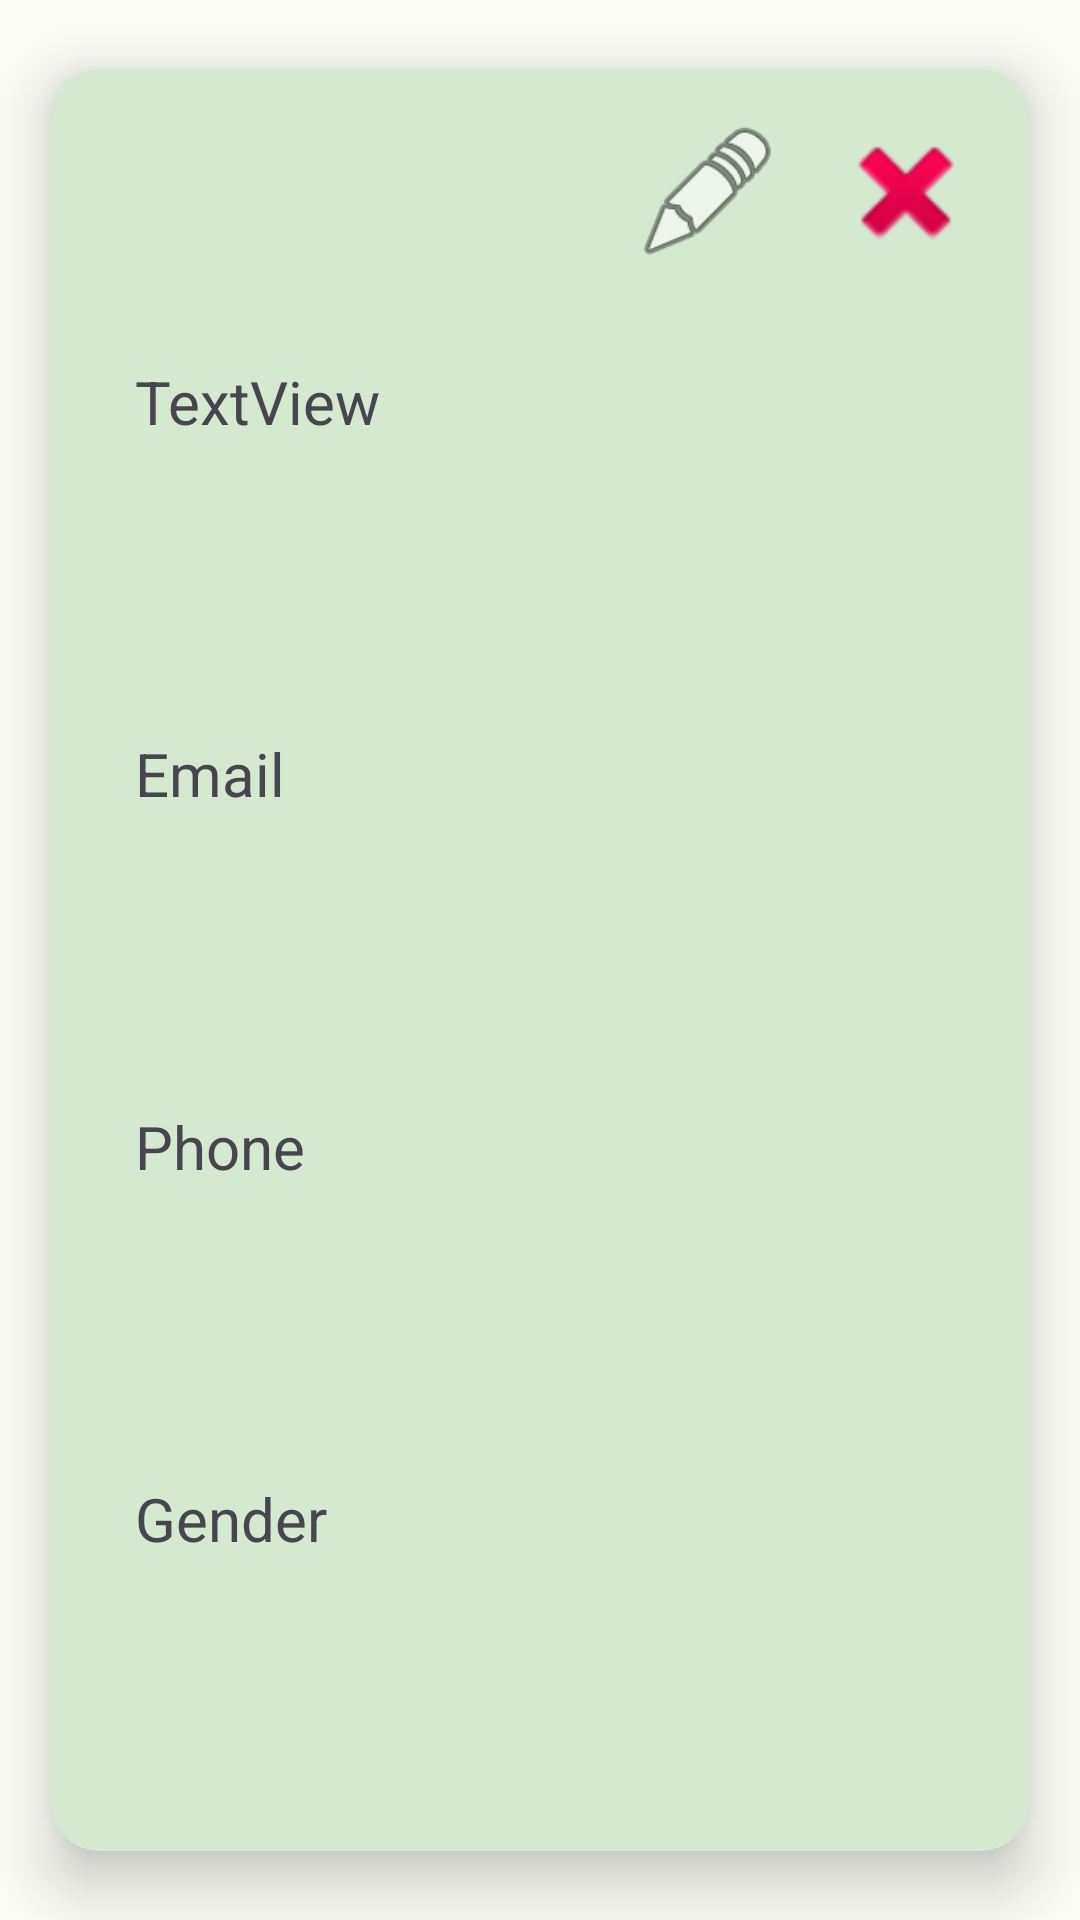

Icons on this 1080 × 1920 Android screen, each with its box as (x1, y1, x2, y2):
delete: (858, 147, 954, 239)
edit: (644, 128, 771, 255)
